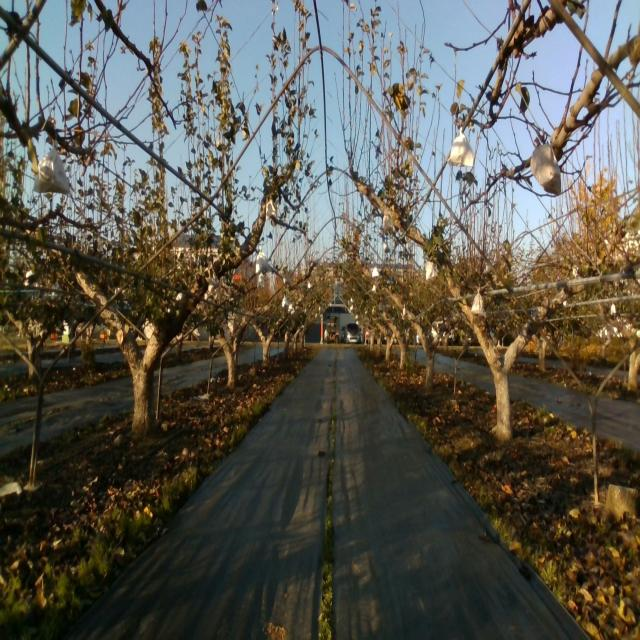pearbags: (31, 140, 72, 194), (531, 140, 562, 196), (448, 127, 475, 167), (470, 290, 487, 316), (256, 243, 270, 273), (208, 270, 222, 290), (426, 256, 438, 279), (265, 199, 278, 218), (382, 214, 393, 232)
